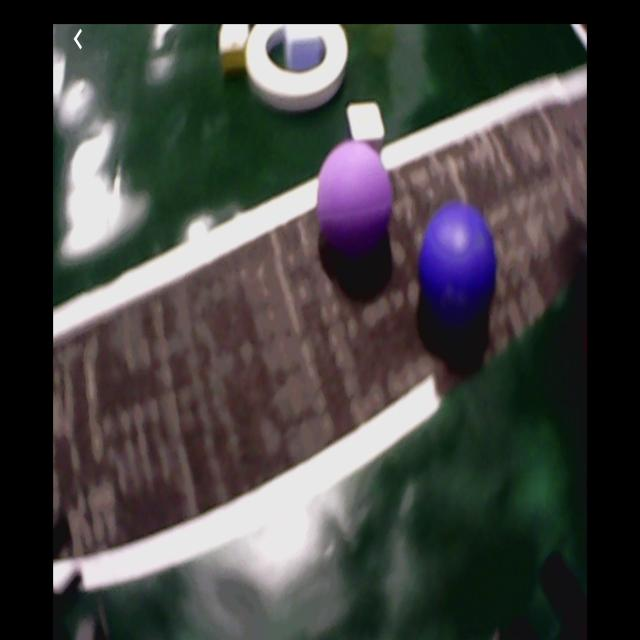ball: (320, 142, 395, 260), (421, 204, 497, 317)
